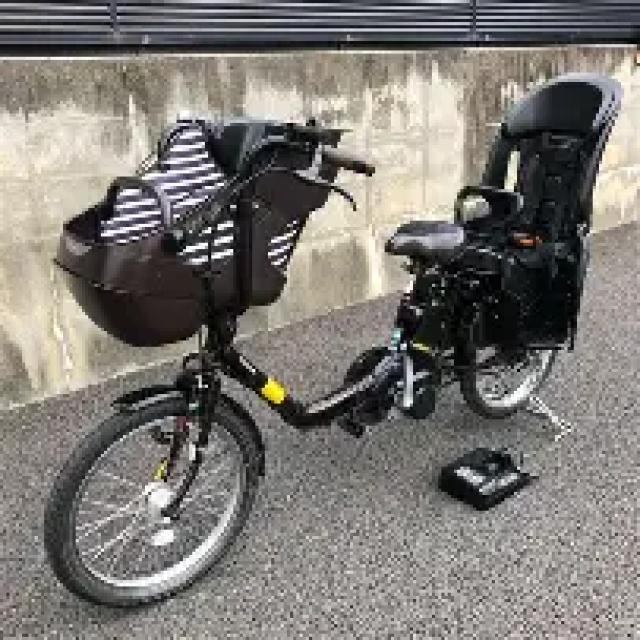battery: (406, 301, 447, 356)
childseat: (53, 117, 347, 354), (460, 71, 625, 353)
